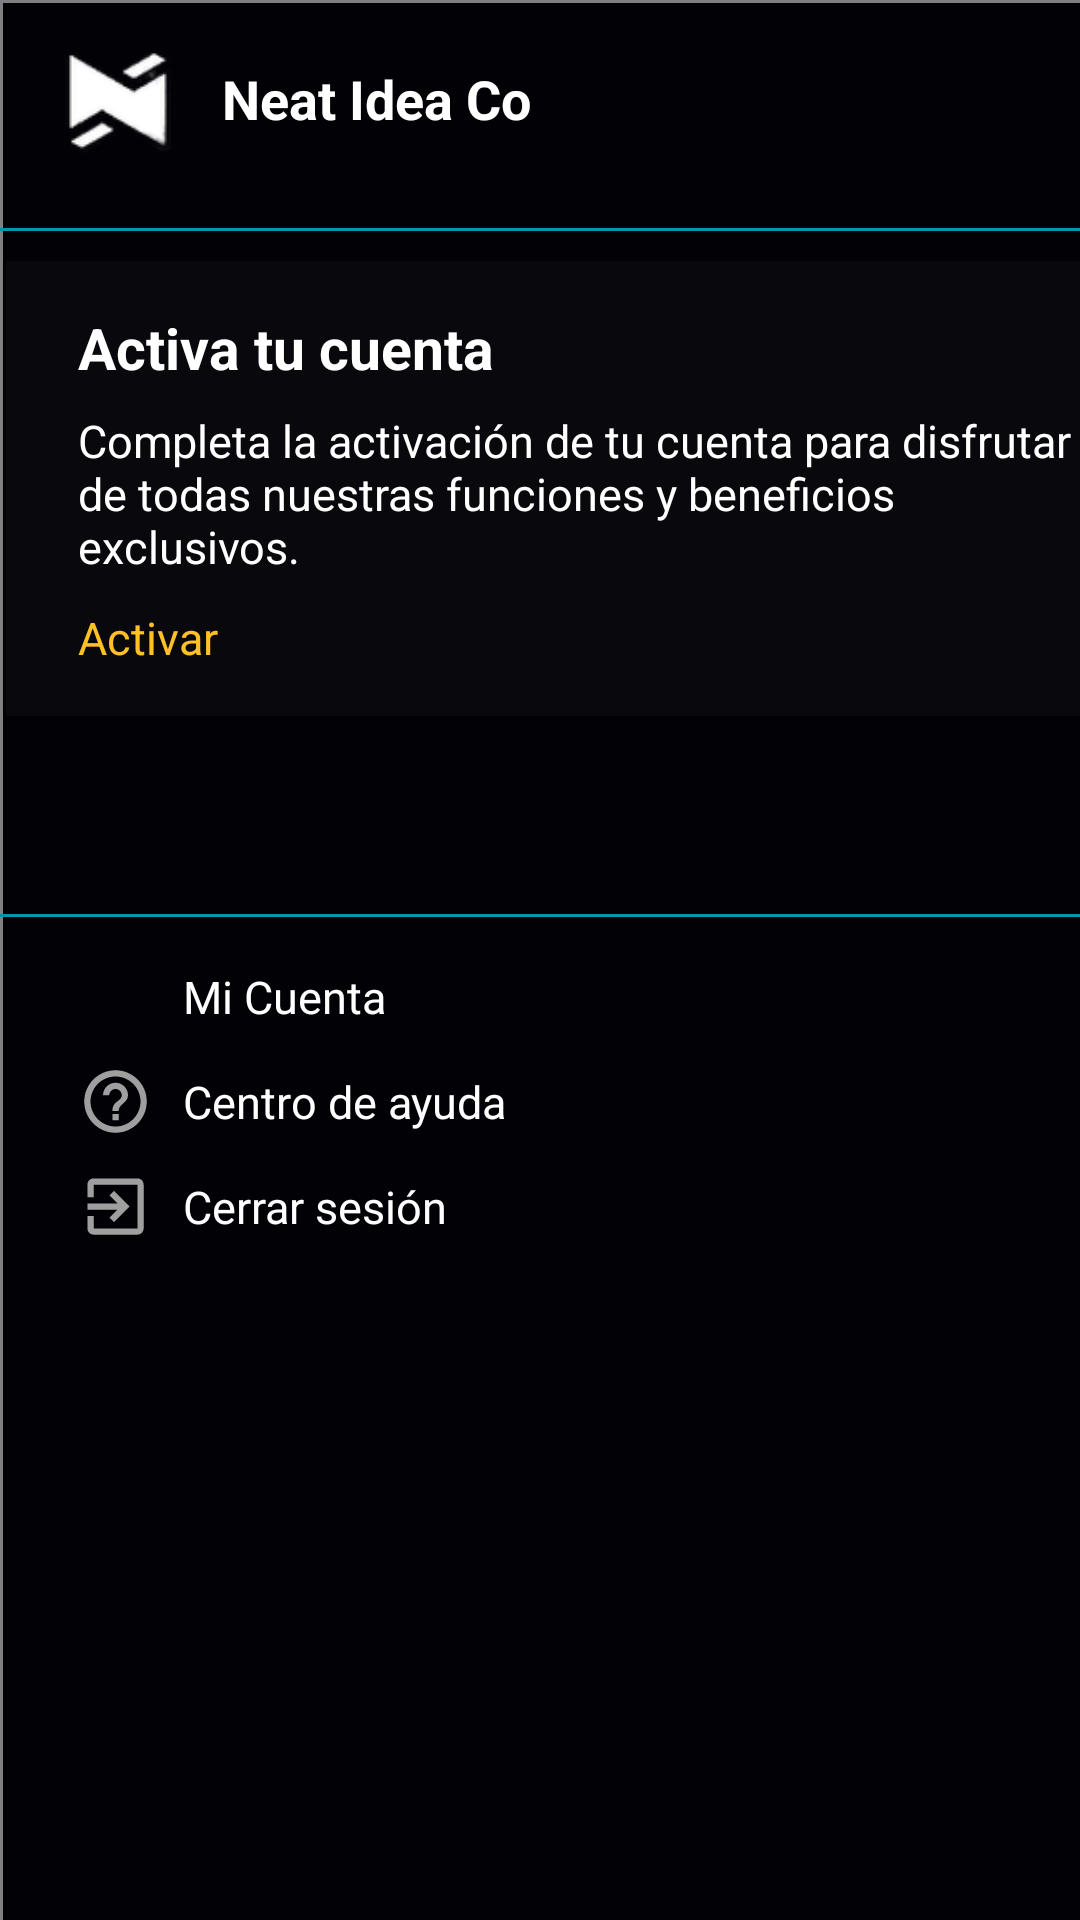

Locate icon controls on the screen. Image size 1080x1920, boxes as rect(x1, y1, x2, y2).
exit: rect(87, 1178, 144, 1235)
helper: rect(84, 1070, 147, 1133)
